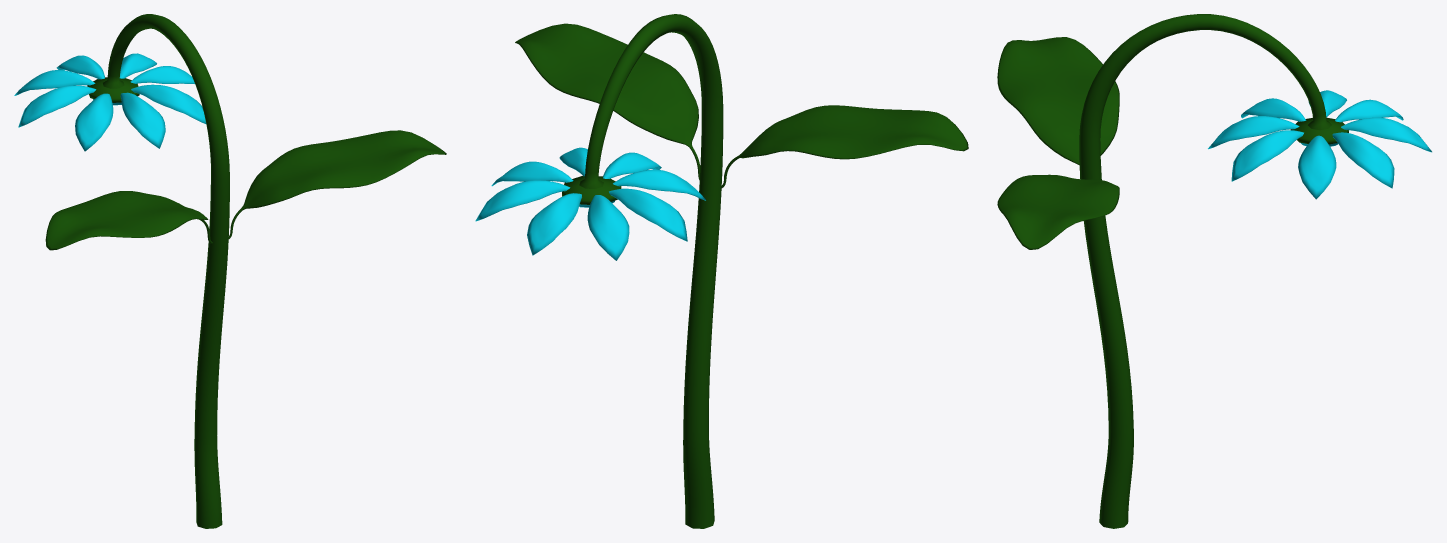
The model's file is blueflower.glb.
3 renders of one model, left to right at view 1: azimuth 30°, elevation 25°; view 2: azimuth 150°, elevation 25°; view 3: azimuth 270°, elevation 25°, orthographic. The views are drawn at different scales.
Visible parts, largest first — view 1: lampPost24; view 2: lampPost24; view 3: lampPost24.
Boxes of the visible parts, x1=… form: lampPost24: x1=14, y1=14, x2=446, y2=528; lampPost24: x1=475, y1=14, x2=968, y2=528; lampPost24: x1=997, y1=14, x2=1431, y2=528.
Size of the model in its own units: 2.62 by 2.98 by 2.31.
